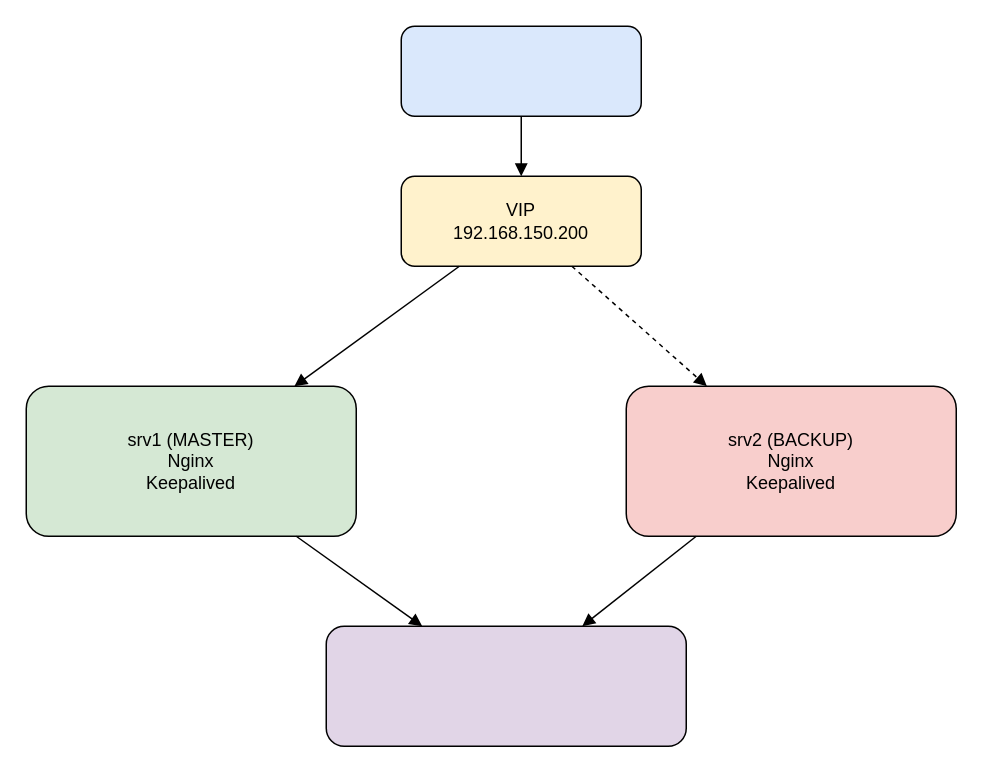
Image size: 983x773. Some labels were removed from this diagram. Here are the shapes that lost their labels. From the top down, the centre of each, then its label:
At pixel 520 70: "Client Web".
At pixel 505 685: "VRRP Basculement automatique".
